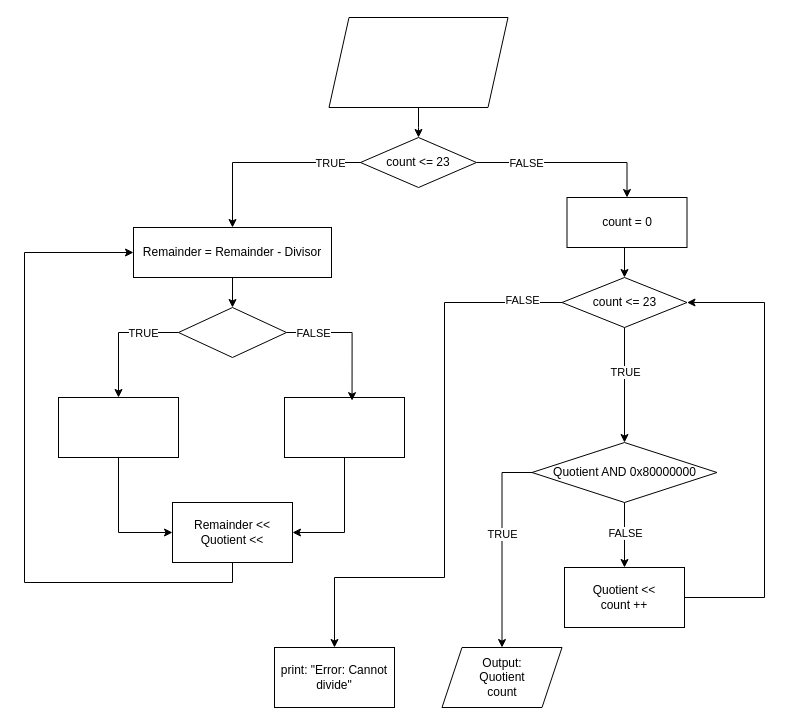
This 790x725 diagram has some shape labels left out. The shapes that lost their labels are listed below. From the top down, each one's centre as x and y in pixels, then its label:
At (x=418, y=62): "Input: Remainder = Dividend Divisor Quotient count = 0".
At (x=232, y=332): "M >= 0".
At (x=118, y=427): "Remainder = Remainder + Divisor".
At (x=344, y=427): "Quotient++".
